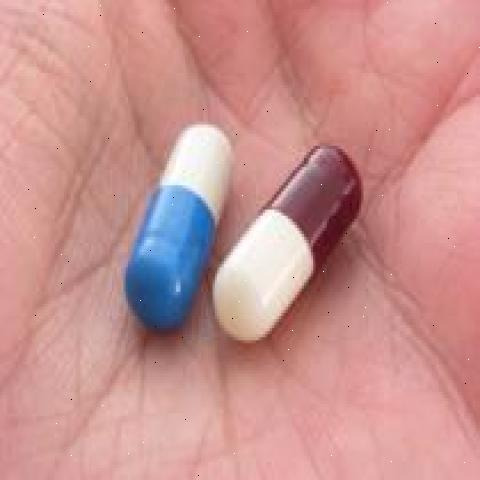Pill: (217, 101, 390, 366), (120, 96, 230, 346)
